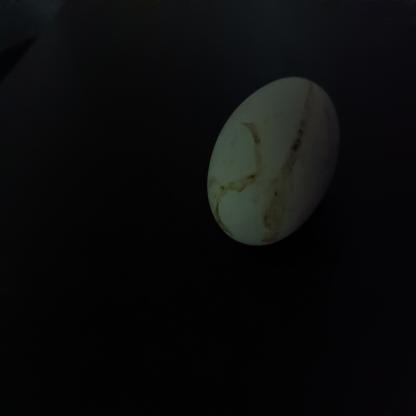egg: (205, 74, 343, 248)
